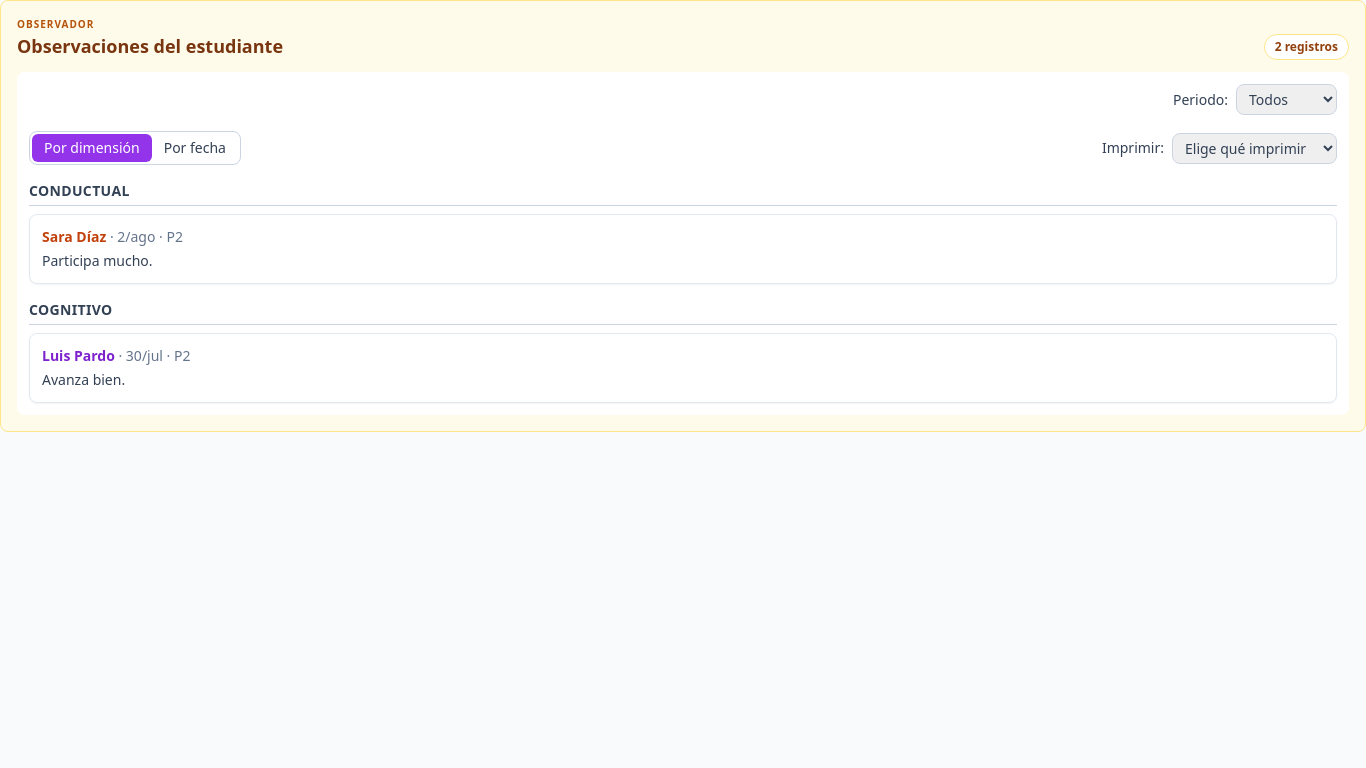
Scenario: ObservadorEnFichaAdmin › el impreso sale con todas las anotaciones y lo firma el director de grupo
The image size is (1366, 768).
Check: the text "Participa mucho." is shown, box [42,251,152,270]
Select "Todo el observador" in the dropdown labelled "Imprimir:" at (1254, 148), box [1172,132,1337,164]
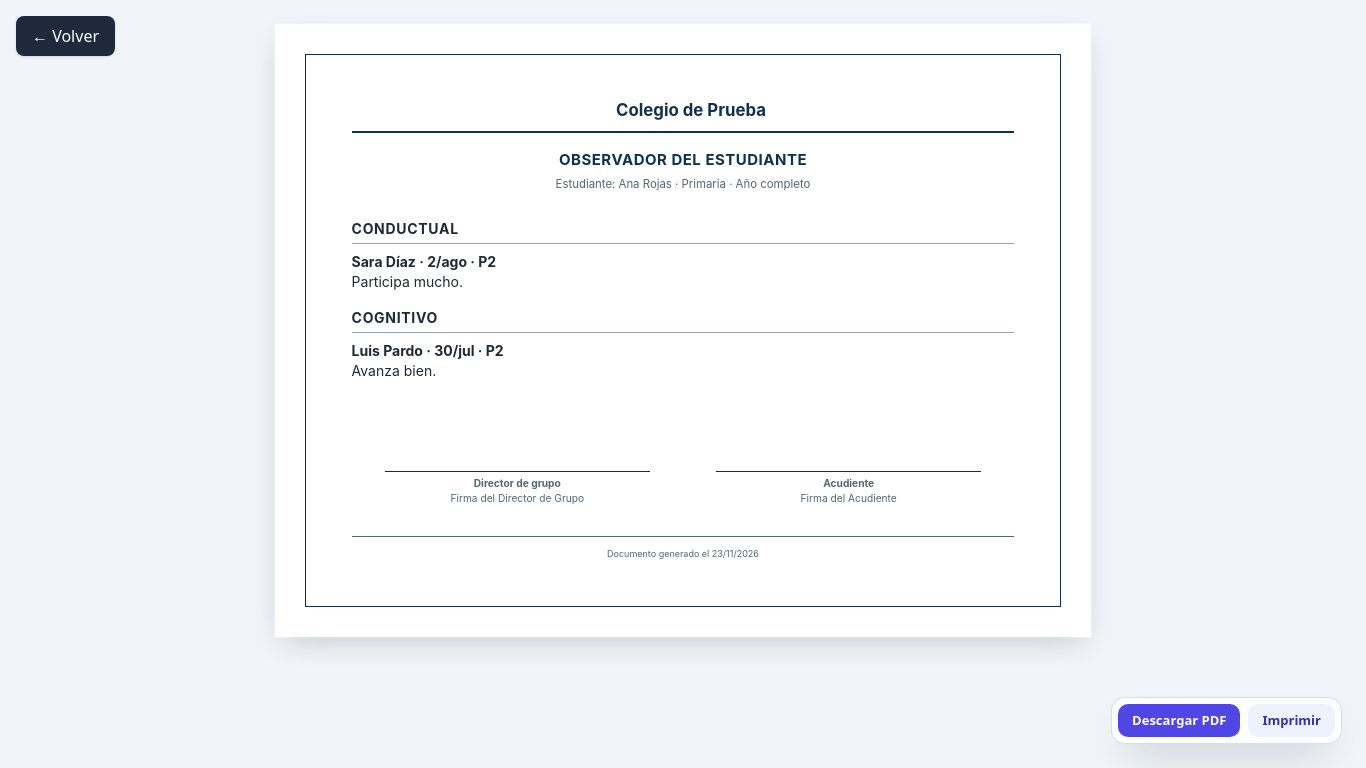
Check: the text "Participa mucho." is shown, box [352,273,463,290]
Check: the text "Estudiante: Ana Rojas · Primaria · Año completo" is shown, box [556,176,810,190]
Check: the text "Director de grupo" is shown, box [474,477,561,489]
